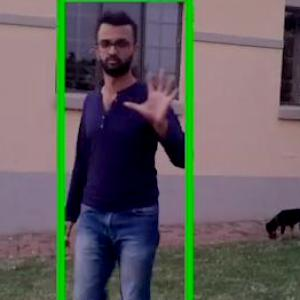follow_hand: (124, 61, 184, 128)
